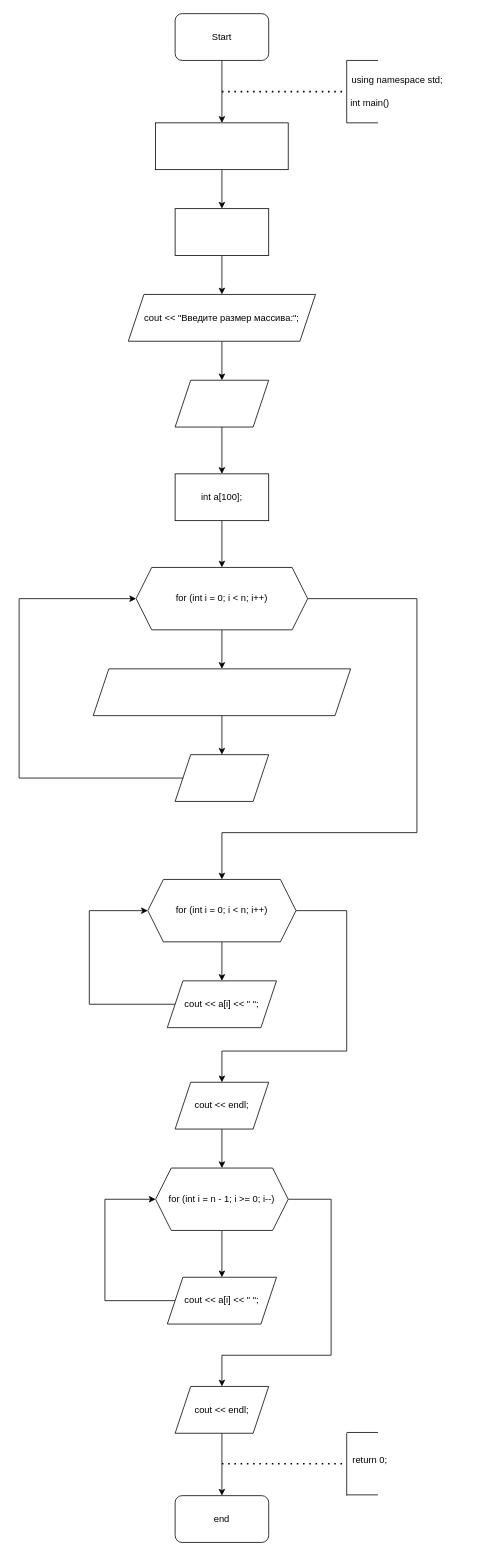
This 477x1556 diagram has some shape labels left out. Here are the shapes that lost their labels. From the top down, the centre of each, then its label:
point (221, 146): setlocale(LC_ALL, "Russian");
point (221, 231): int n;
point (221, 403): cin >> n;
point (221, 692): cout << "Введите число номер " << i + 1 << ":";
point (221, 777): cin >> a[i];
